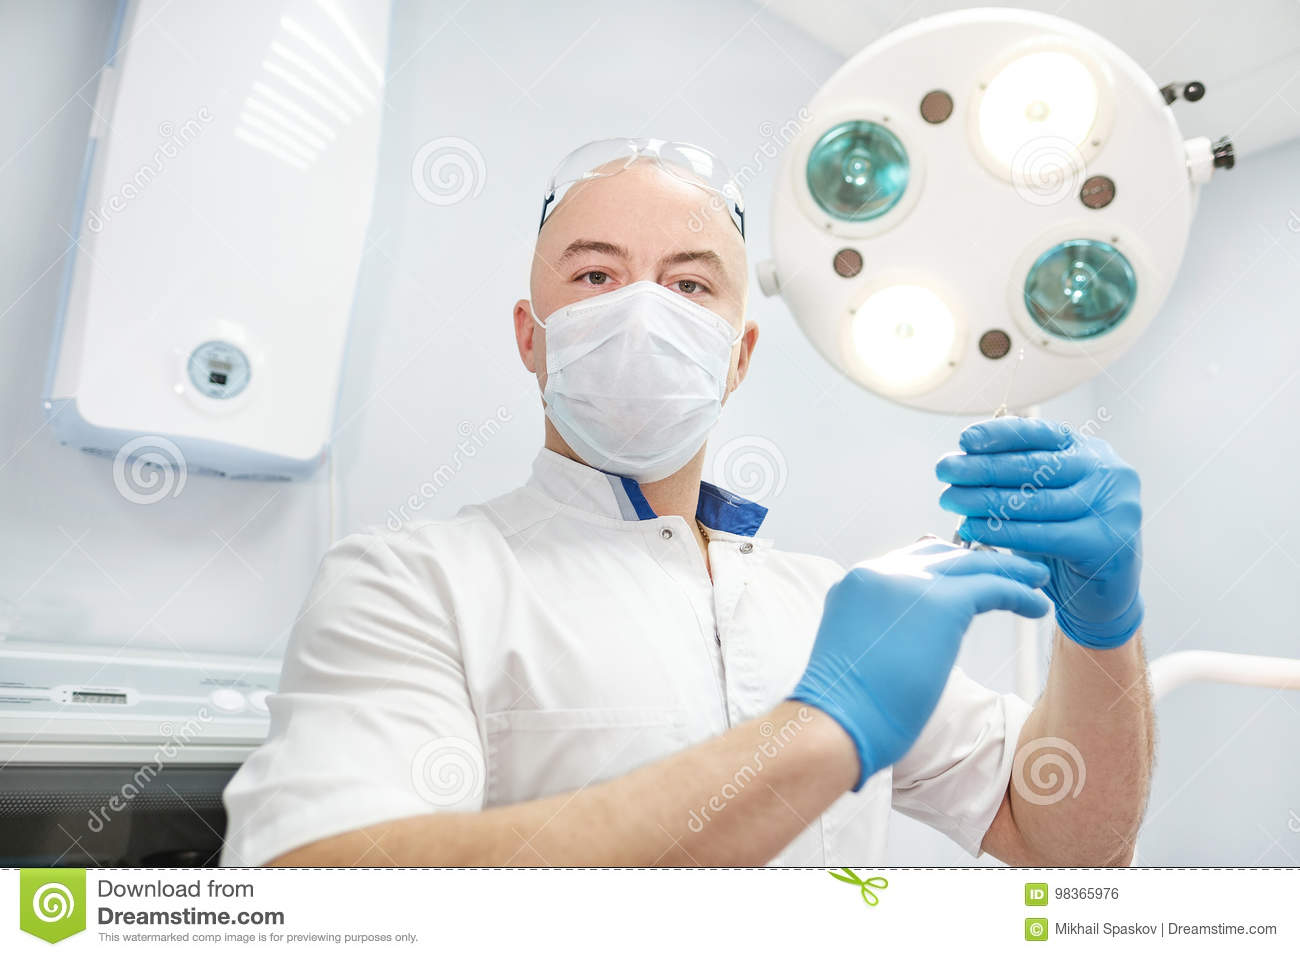mask: (526, 283, 744, 476)
